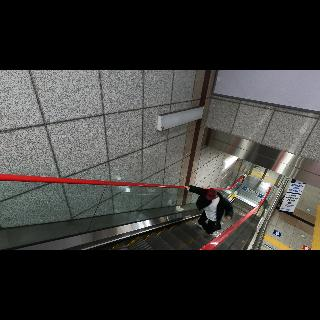normal: (186, 184, 234, 238)
